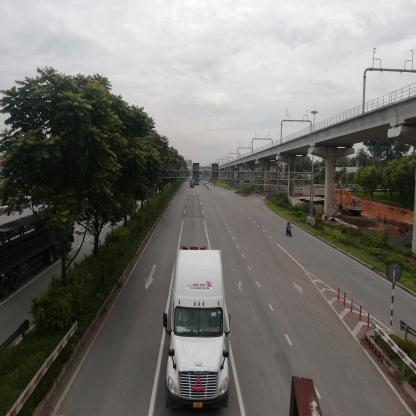container: (166, 251, 231, 409)
motorbike: (287, 222, 295, 239)
